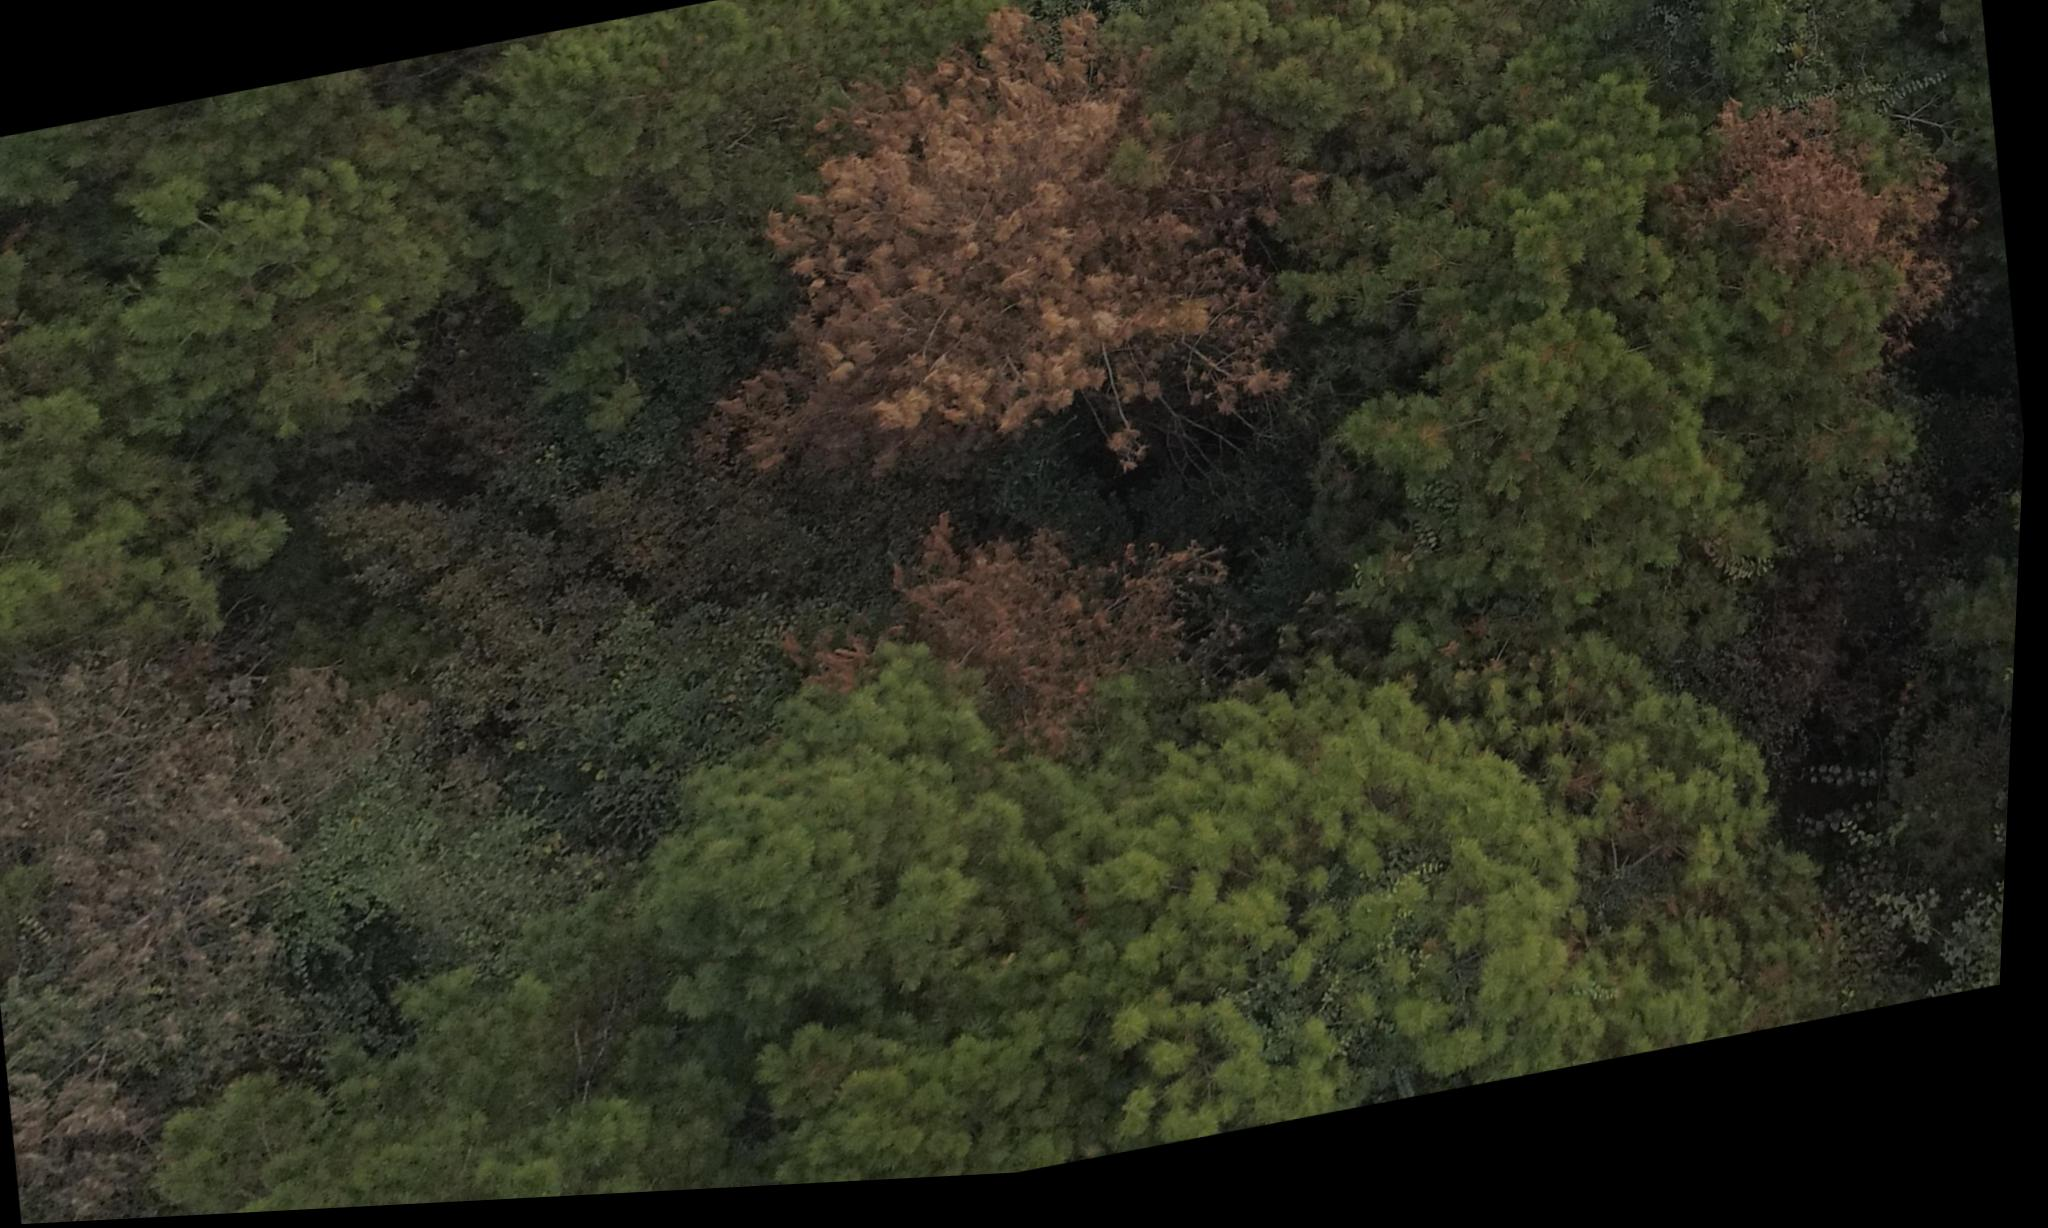heavy: (667, 0, 1343, 531), (804, 503, 1264, 794), (1672, 89, 1976, 383)
